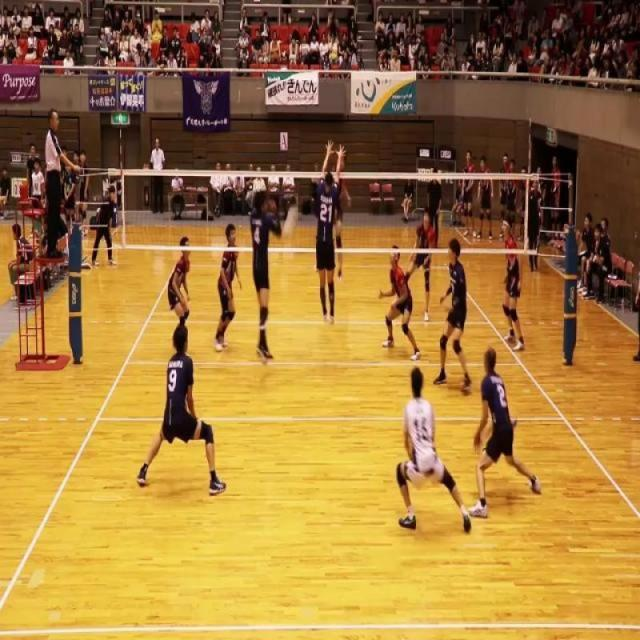volleyball: (280, 204, 298, 244)
